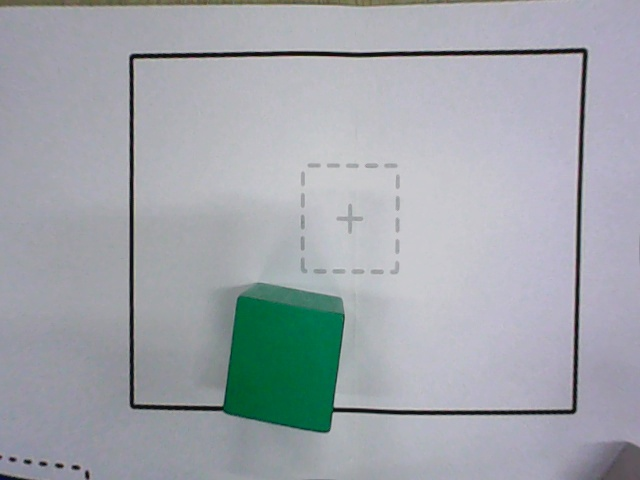upside of big cube: (223, 297, 343, 432)
